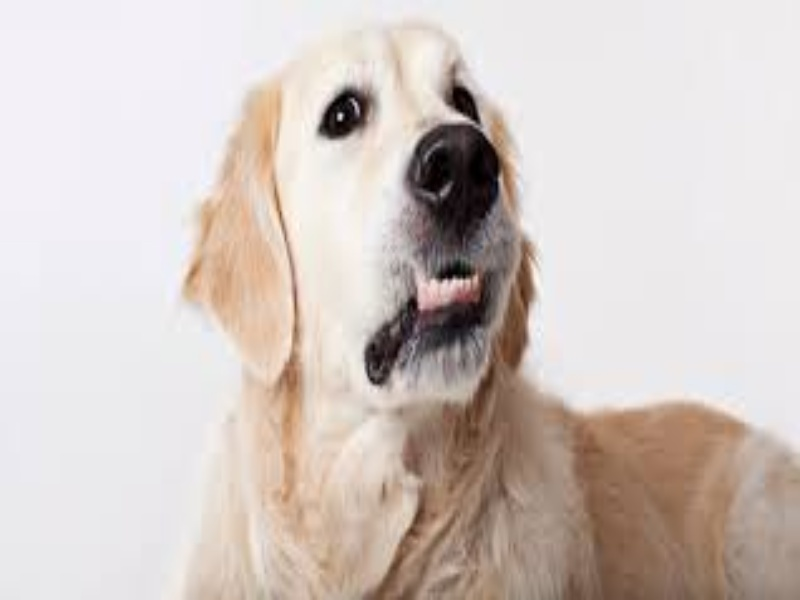dog: (175, 15, 675, 600)
